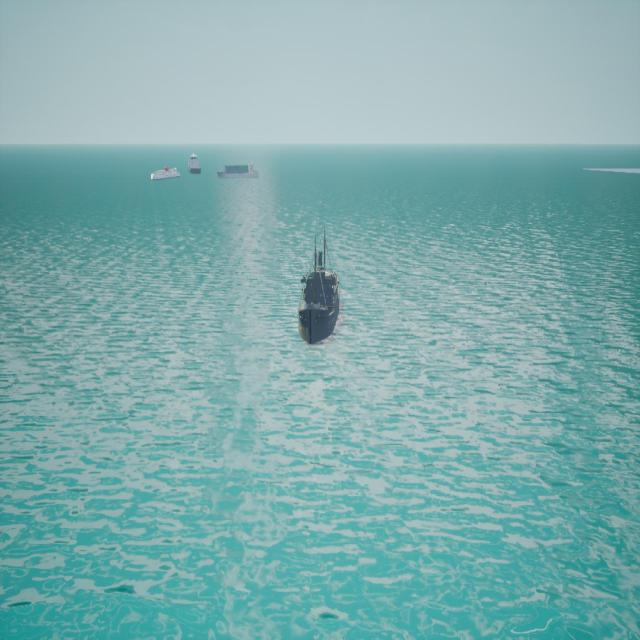fishing ship: (300, 230, 342, 347), (217, 164, 258, 181), (151, 167, 183, 182), (190, 154, 202, 175)
